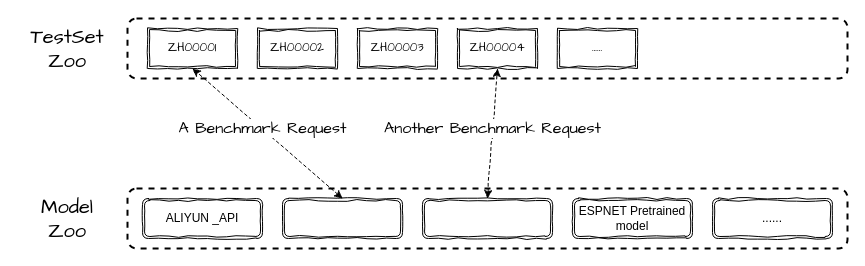
Image size: 865x266. Some labels were removed from this diagram. The shapes that lost their labels are listed below. From the top down, each one's centre as x and y in pixels, then its label:
At point 342,218: "GOOGLE _API".
At point 487,218: "KALDI pretrained model".
